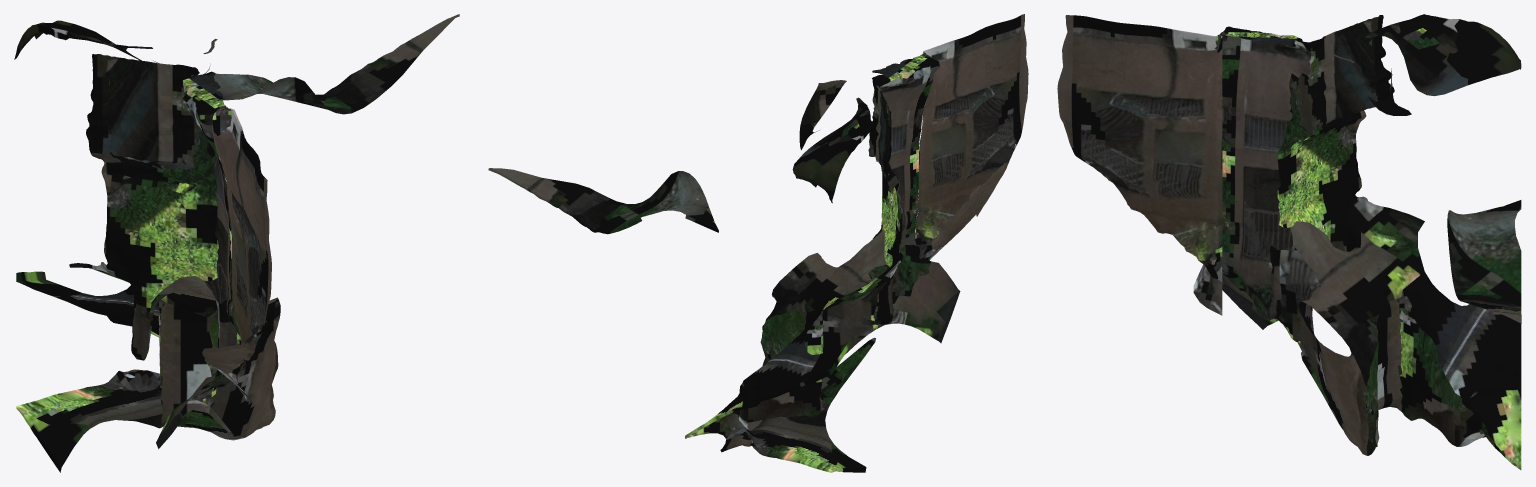
The picture shows the model from 3 angles, left to right: view 1: azimuth 30°, elevation 25°; view 2: azimuth 150°, elevation 25°; view 3: azimuth 270°, elevation 25°; orthographic projection. The views are drawn at different scales.
Visible parts, largest first — view 1: node_174; view 2: node_174; view 3: node_174.
Part boxes in pixels (x1,y1,x2,y2): node_174: (14,14,459,472); node_174: (488,14,1028,472); node_174: (1057,14,1521,470).
Bounding box in the file's own units: 9.17 × 8.7 × 9.12.
1 material, 1 textured.
